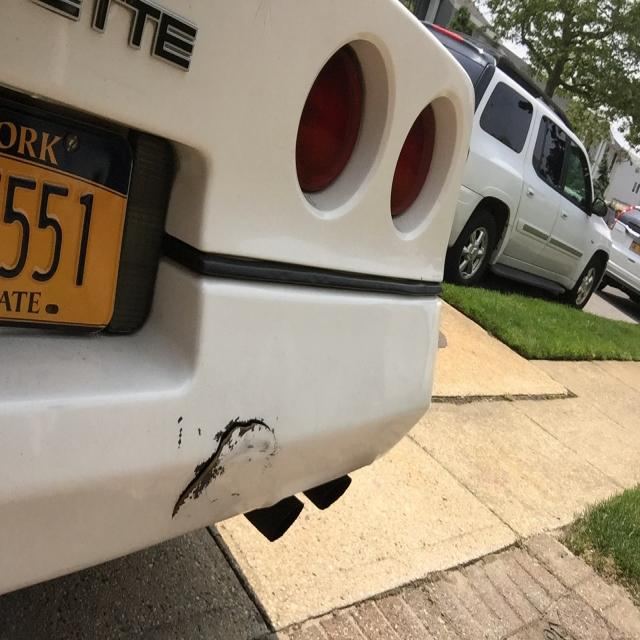scratch: (170, 411, 287, 522)
tear: (171, 417, 276, 520)
